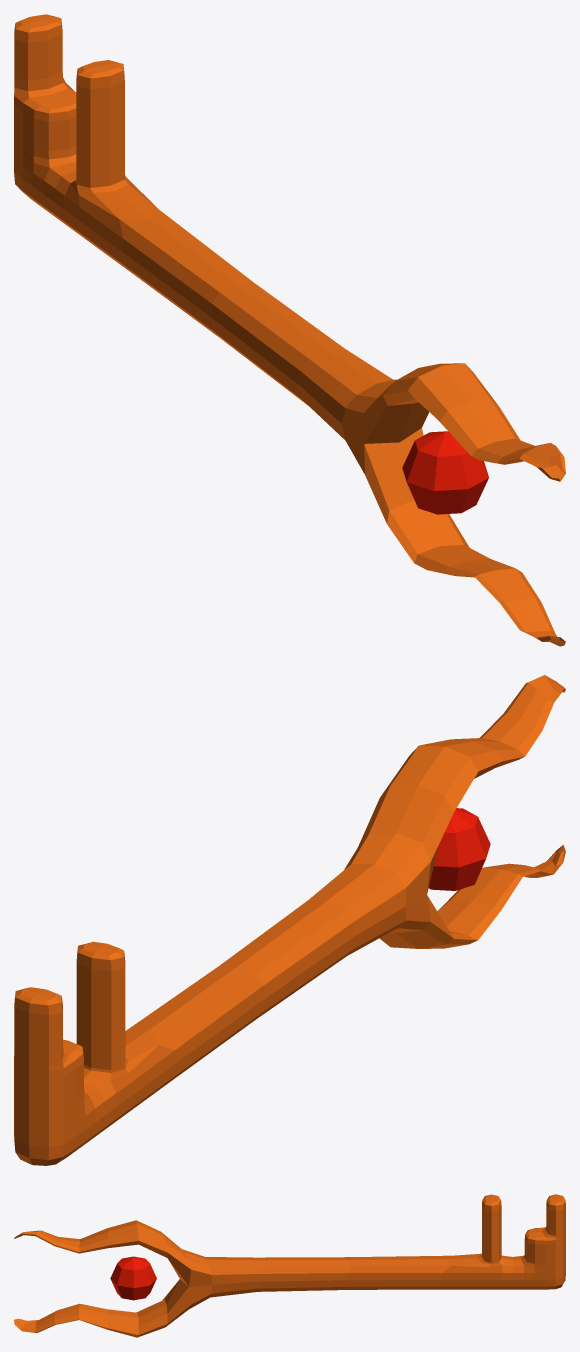
The model's file is clef.fbx.
3 views of the same model, one above another, from view 1: azimuth 30°, elevation 25°; view 2: azimuth 150°, elevation 25°; view 3: azimuth 270°, elevation 25° (orthographic). The views are drawn at different scales.
Parts seen in each view (by area): view 1: Cube; view 2: Cube; view 3: Cube.
Part boxes in pixels (x1,y1,x2,y2): Cube: (14, 14, 565, 646); Cube: (14, 675, 565, 1165); Cube: (14, 1194, 565, 1337).
Bounding box in the file's own units: 49.61 × 156 × 586.
